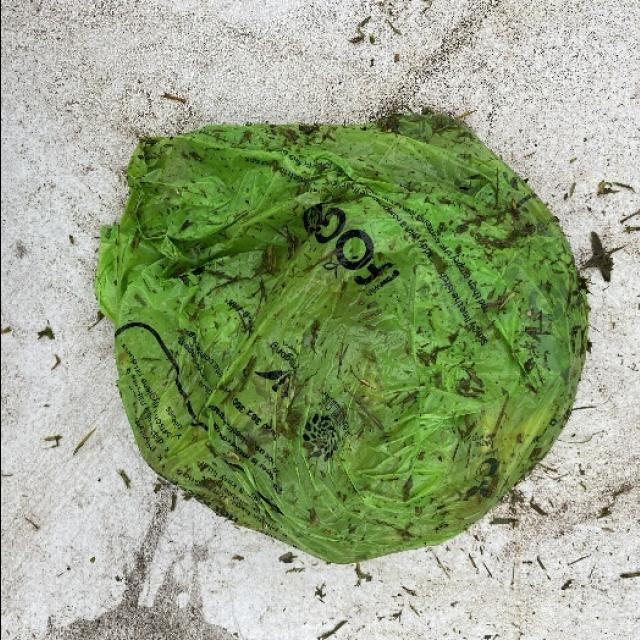organik: (82, 121, 584, 565)
